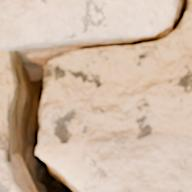brick: (0, 0, 173, 49)
broken_brick: (38, 131, 191, 191), (0, 149, 16, 191)
crack: (2, 0, 189, 191)
